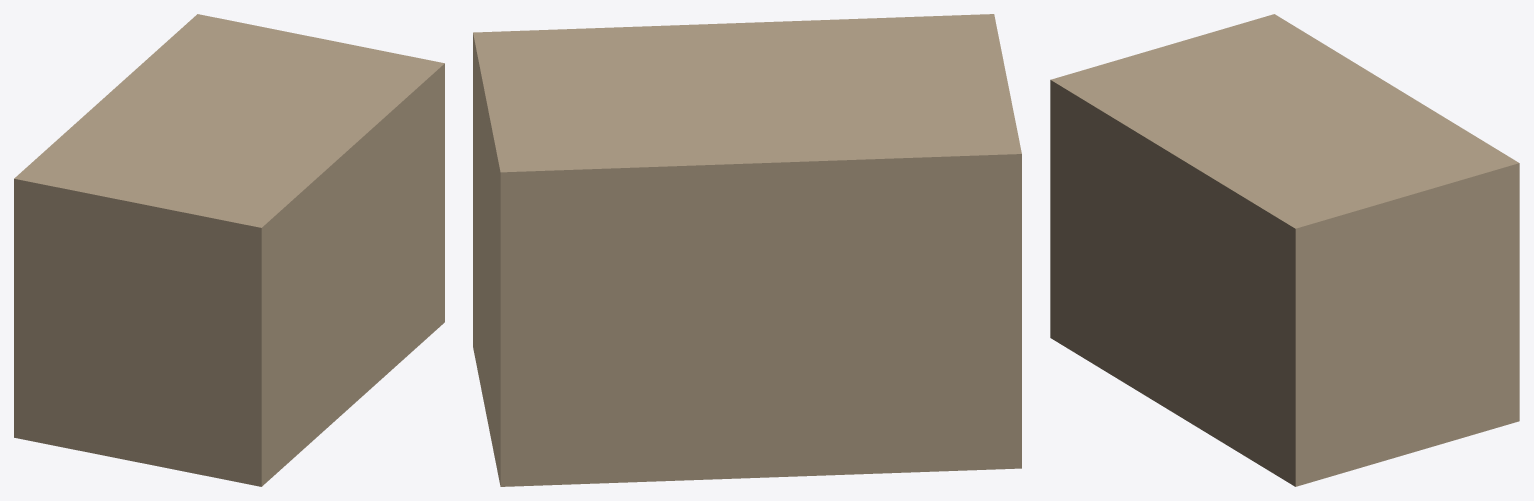
The model's file is bld_106338980.dae.
3 renders of one model, left to right at view 1: azimuth 30°, elevation 25°; view 2: azimuth 150°, elevation 25°; view 3: azimuth 270°, elevation 25°, orthographic. The views are drawn at different scales.
Parts seen in each view (by area): view 1: bld_106338980; view 2: bld_106338980; view 3: bld_106338980.
Boxes of the visible parts, box(x1,y1,x2,y2) form: bld_106338980: box(14, 14, 444, 486); bld_106338980: box(473, 14, 1021, 486); bld_106338980: box(1050, 14, 1519, 486).
Bounding box in the file's own units: 14.27 × 13.17 × 8.
